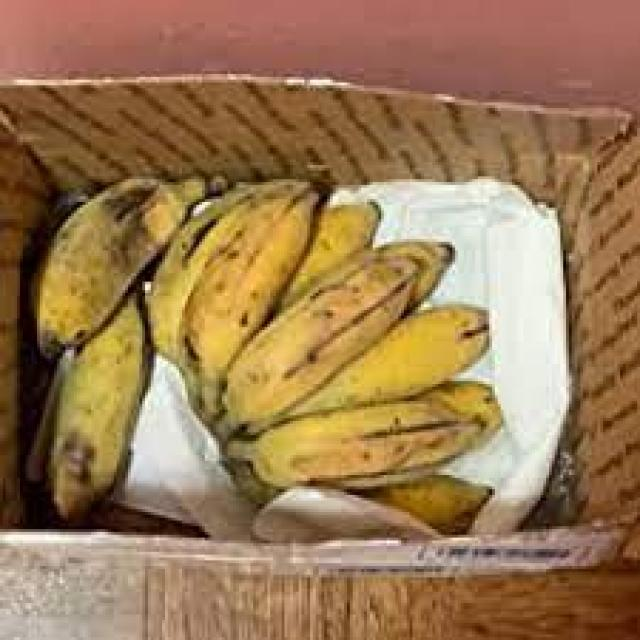banana: (27, 173, 514, 539)
